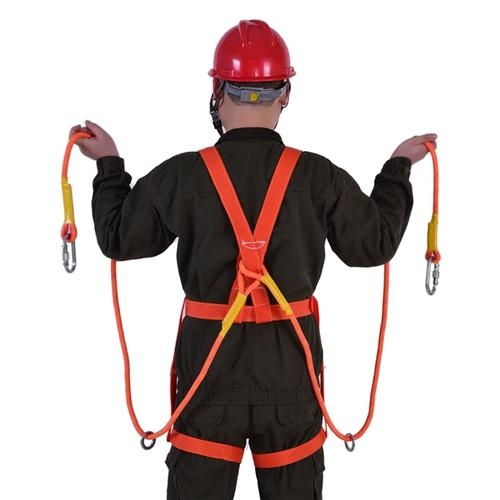safety belt: (137, 148, 351, 461)
